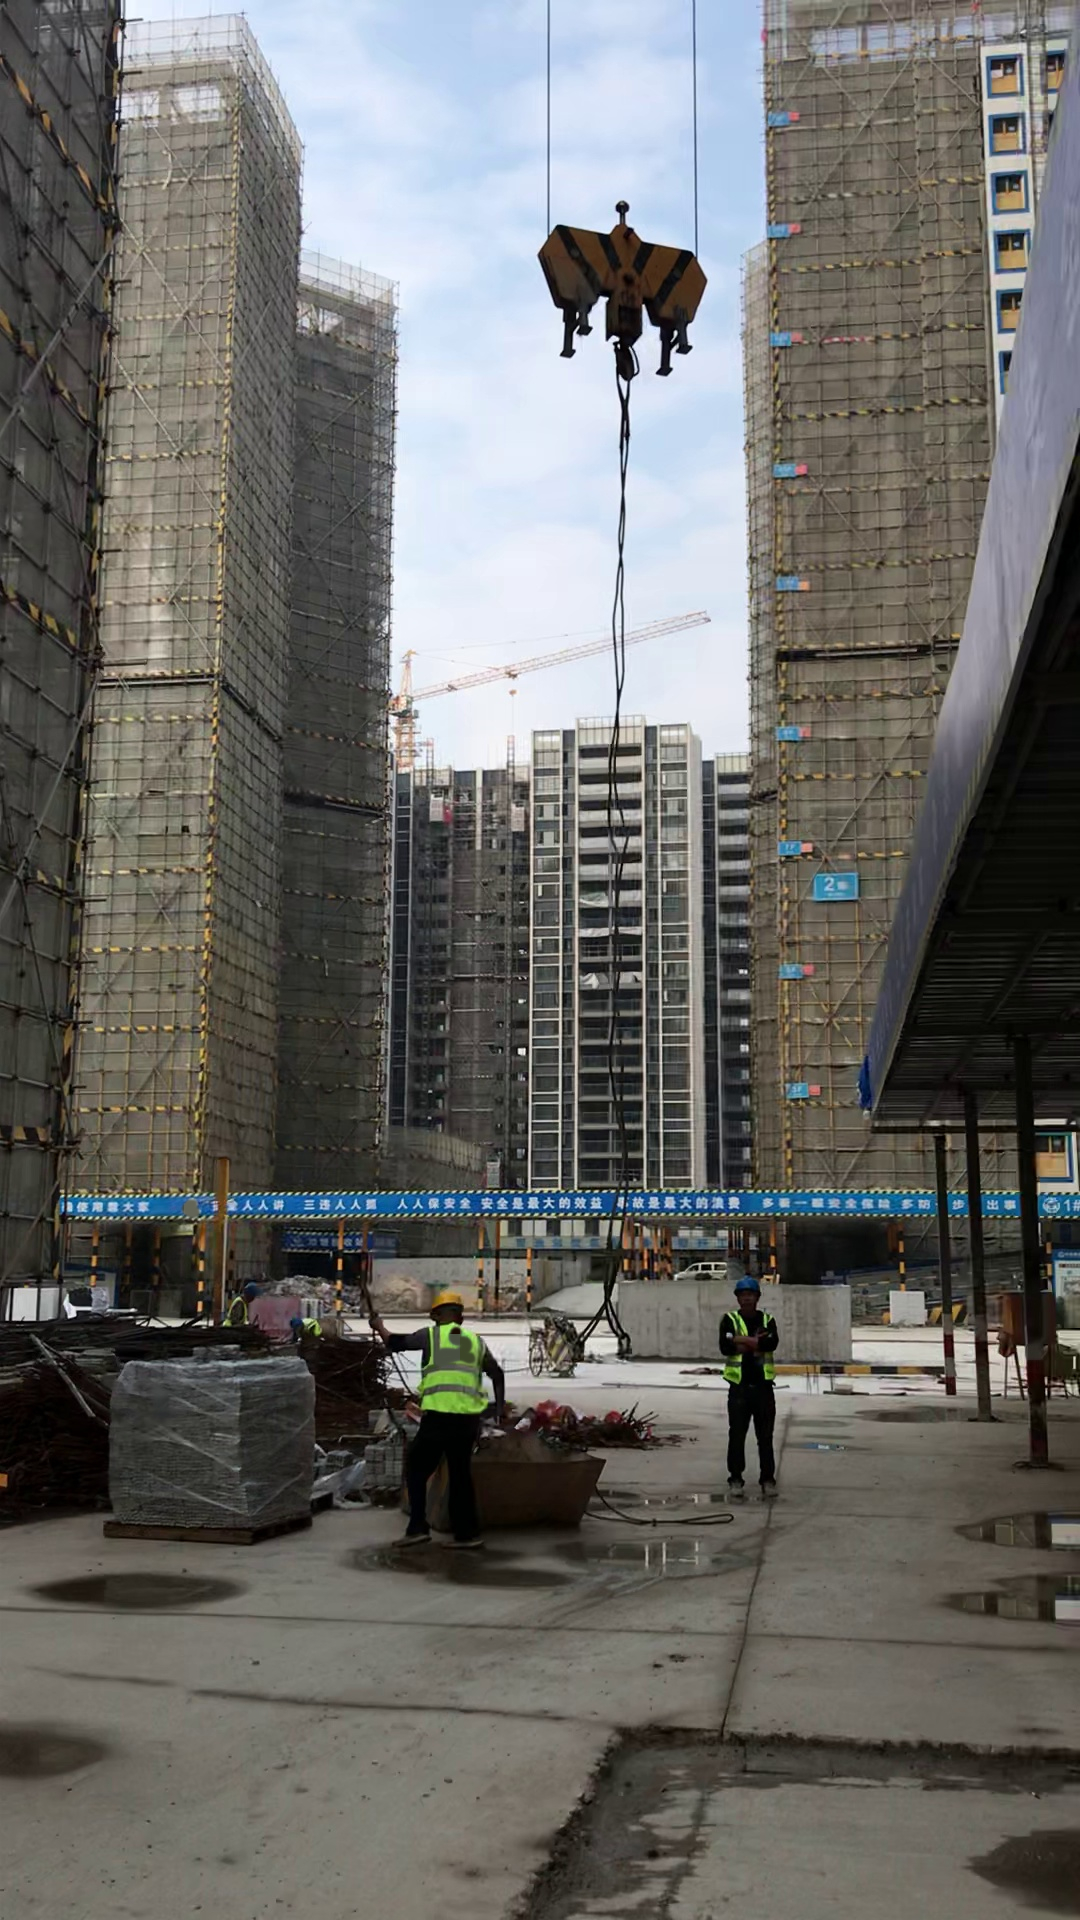helmet: (427, 1286, 469, 1310), (733, 1277, 770, 1294), (243, 1280, 262, 1294), (288, 1314, 302, 1329)
hook: (532, 182, 716, 388)
hopper: (401, 1429, 606, 1537)
person: (373, 1280, 522, 1574), (717, 1274, 791, 1506), (217, 1275, 261, 1325), (287, 1314, 328, 1341)
slogan: (66, 1180, 1080, 1217)
vest: (423, 1322, 485, 1411), (725, 1312, 776, 1384), (222, 1298, 250, 1323), (304, 1317, 321, 1334)
